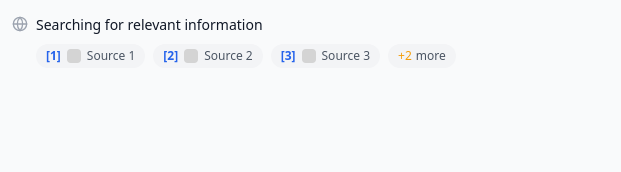
Test: WebSearchStep › source display › shows all sources when clicking "more"
The width and height of the screenshot is (621, 172).
Click the button "+2 more" at (422, 56), box [388, 44, 456, 68]
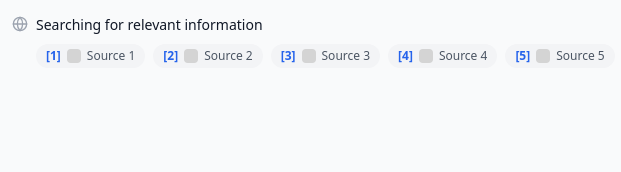
Result: the text "Source 4" is shown at [439, 48, 487, 64]
Result: the text "Source 5" is shown at [556, 48, 605, 64]
Result: the button "more" is gone
